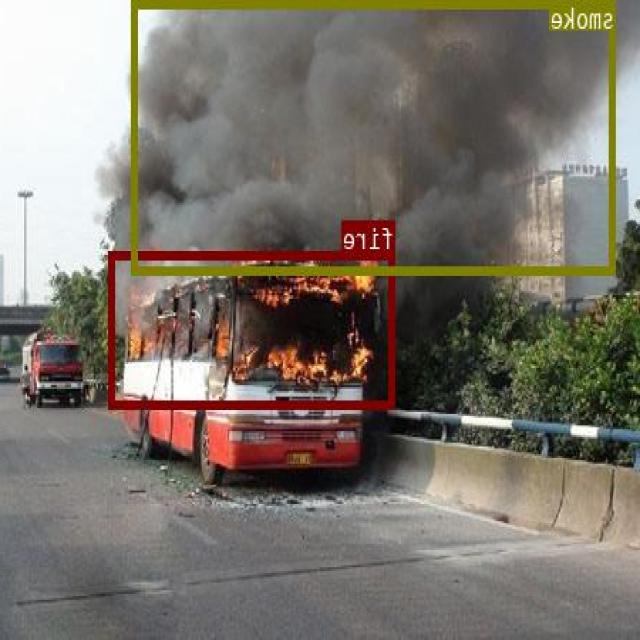fire: (110, 251, 396, 406)
smoke: (133, 0, 617, 274)
